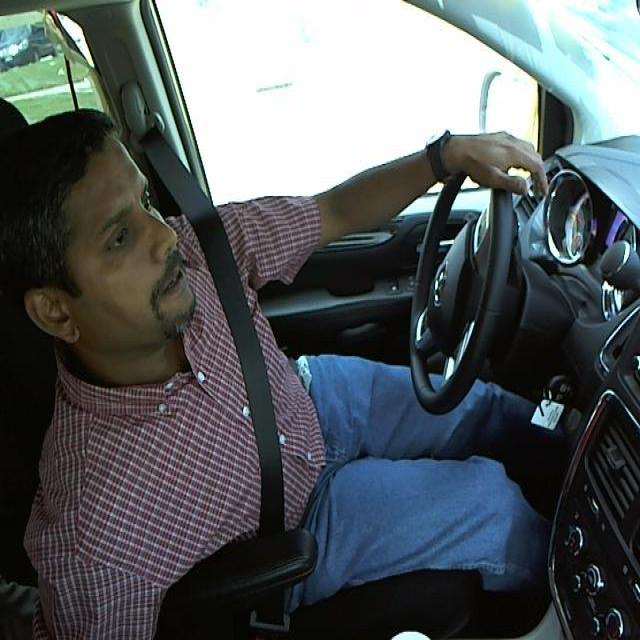seatbelt: (204, 267, 299, 529)
